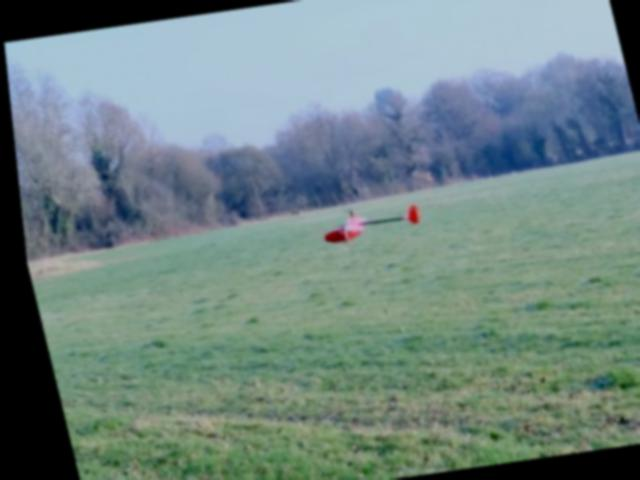uav: (305, 199, 422, 247)
